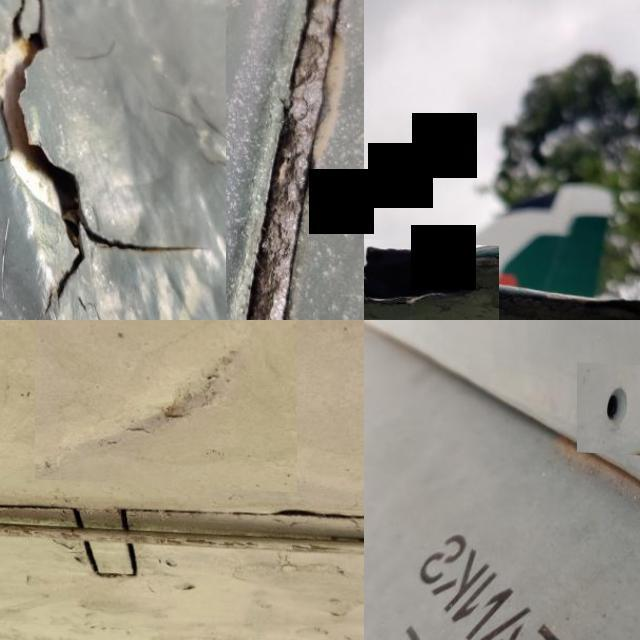Crack: (0, 0, 225, 320), (364, 233, 498, 320)
Dent: (35, 320, 297, 487)
Missing_Fastener: (577, 359, 640, 453)
